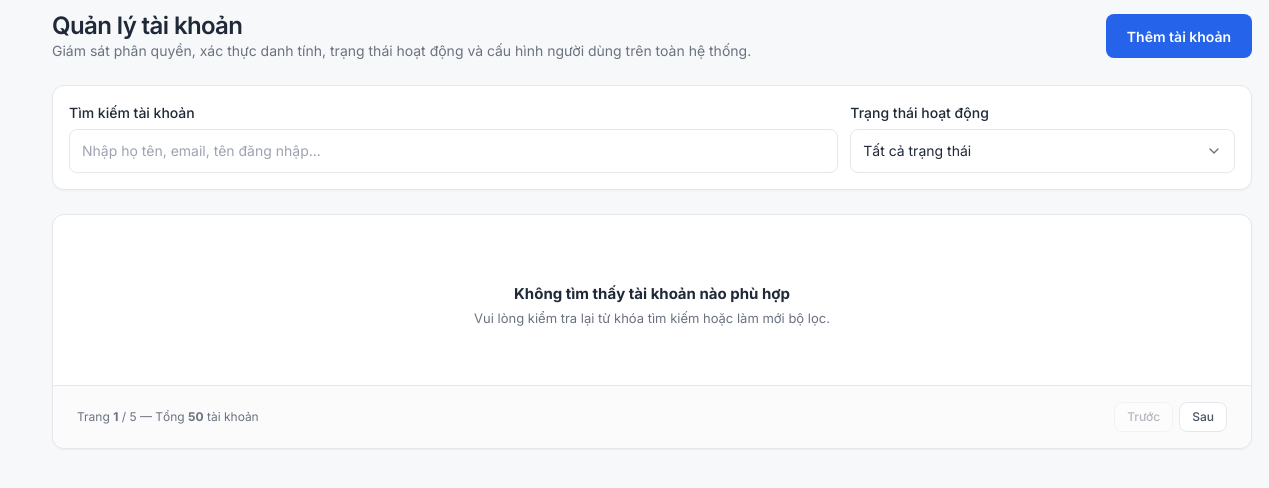
Test: AdminAccountsPage filters live in the URL › paging is kept in the URL
Click the button "Sau".
click(1203, 417)  # box [1179,402,1227,432]
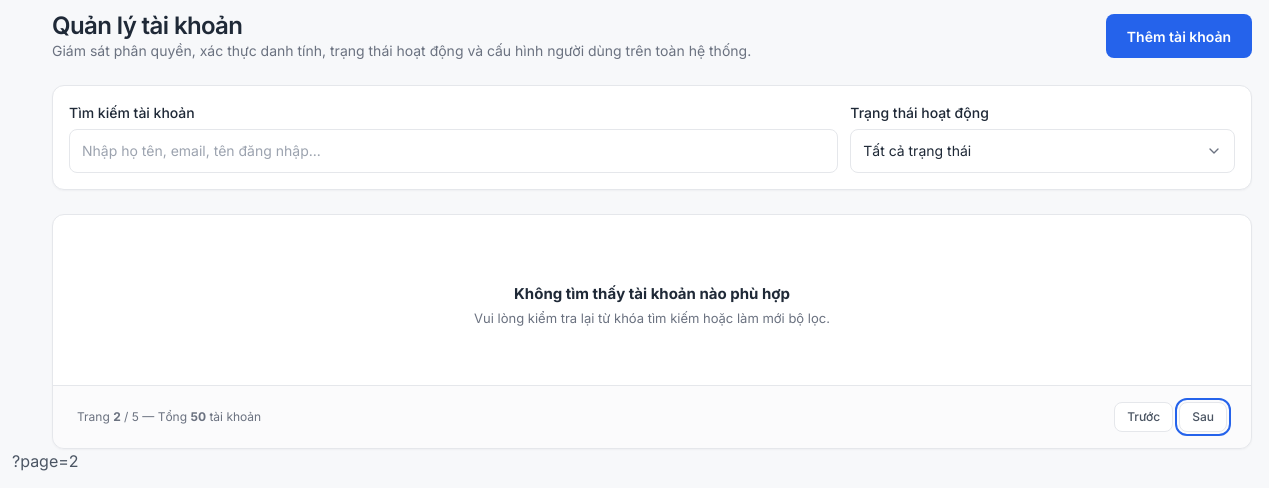
Result: the text with test id "search" reads "?page=2" at [12,451,79,471]
